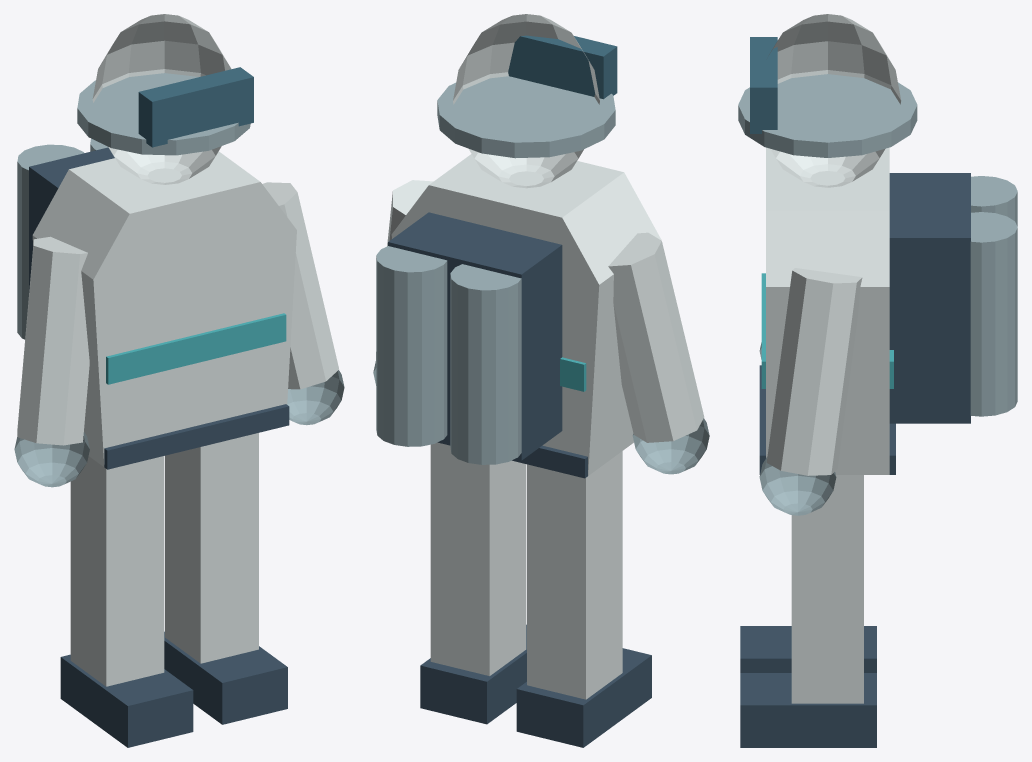
File: orbital-field-station-suited-field-technician__154.glb
3 renders of one model, left to right at view 1: azimuth 30°, elevation 25°; view 2: azimuth 150°, elevation 25°; view 3: azimuth 270°, elevation 25°, orthographic.
Parts seen in each view (by area): view 1: shell, dark, metal, glass, accent; view 2: shell, metal, dark, glass, accent; view 3: shell, dark, metal, glass, accent.
Part boxes in pixels (x1,y1,x2,y2): shell: (17,14,339,686); dark: (29,147,289,747); metal: (14,73,344,487); glass: (138,67,253,147); accent: (106,313,286,384); shell: (376,14,704,699); metal: (373,76,709,474); dark: (388,212,651,747); glass: (508,35,617,99); accent: (560,357,586,391); shell: (766,14,901,703); dark: (740,173,970,747); metal: (738,74,1017,515); glass: (750,37,777,133); accent: (761,273,893,388).
Size of the model in its own units: 0.88 by 1.78 by 0.655.
